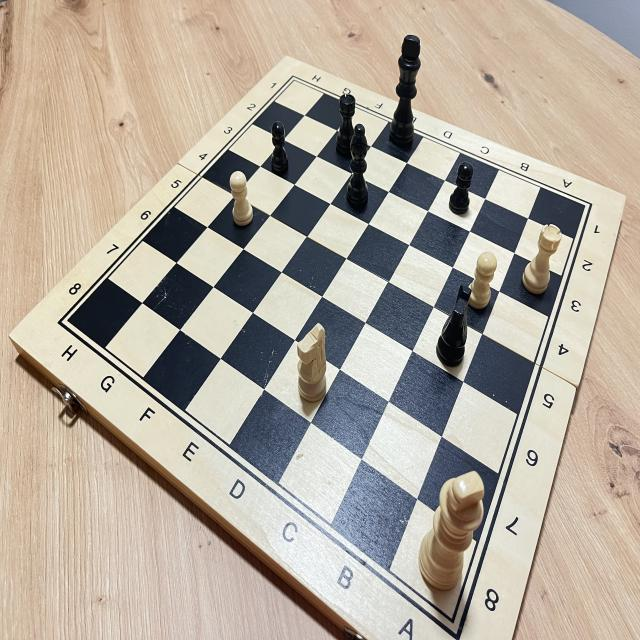black-bishop: (341, 120, 373, 215)
black-king: (386, 26, 427, 154)
black-knight: (426, 282, 477, 368)
black-pawn: (445, 154, 478, 226), (262, 117, 295, 179)
black-rook: (330, 88, 364, 166)
white-king: (418, 462, 494, 609)
white-knight: (291, 315, 336, 411)
white-pawn: (459, 242, 501, 316), (222, 170, 258, 230)
white-rook: (518, 216, 568, 306)
